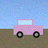vehicle: (14, 19, 43, 38)
